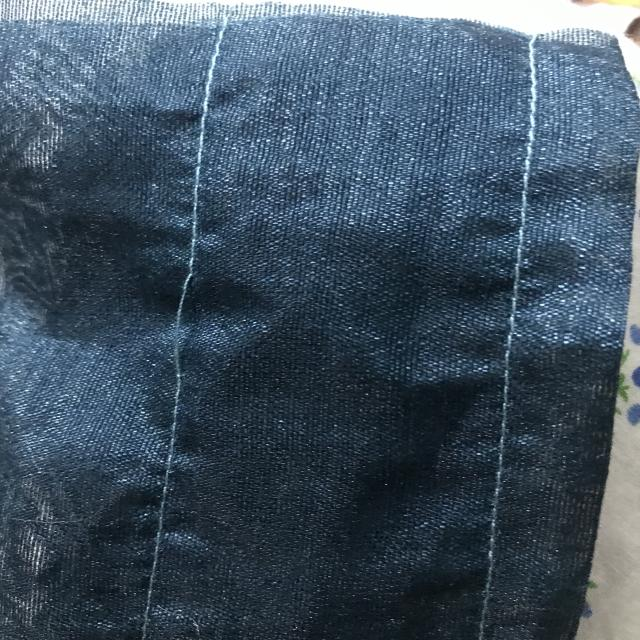good: (175, 110, 222, 209)
skip: (148, 254, 206, 389)
